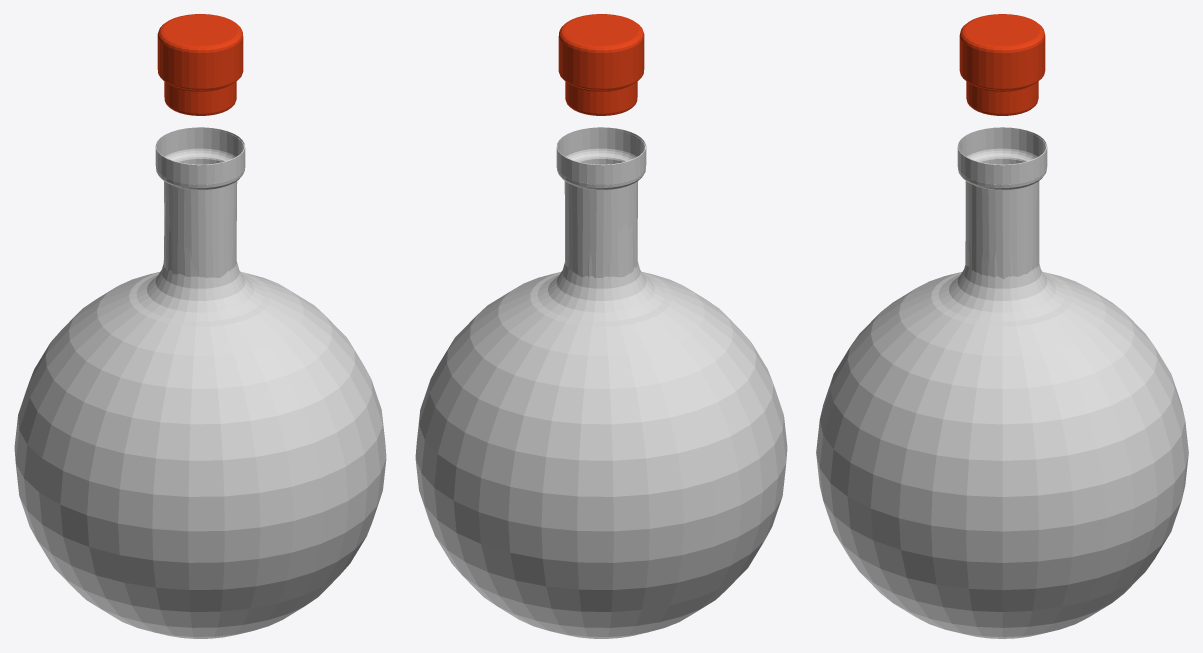
File: Bottle.fbx
The picture shows the model from 3 angles, left to right: view 1: azimuth 30°, elevation 25°; view 2: azimuth 150°, elevation 25°; view 3: azimuth 270°, elevation 25°; orthographic projection.
Visible parts, largest first — view 1: Flasche, Korken; view 2: Flasche, Korken; view 3: Flasche, Korken.
Part boxes in pixels (box(x1,y1,x2,y2)): Flasche: box(14, 127, 386, 638); Korken: box(157, 14, 243, 115); Flasche: box(415, 127, 787, 638); Korken: box(558, 14, 644, 115); Flasche: box(816, 127, 1188, 638); Korken: box(959, 14, 1045, 115).
Bounding box in the file's own units: 10.19 × 17.46 × 10.19.
